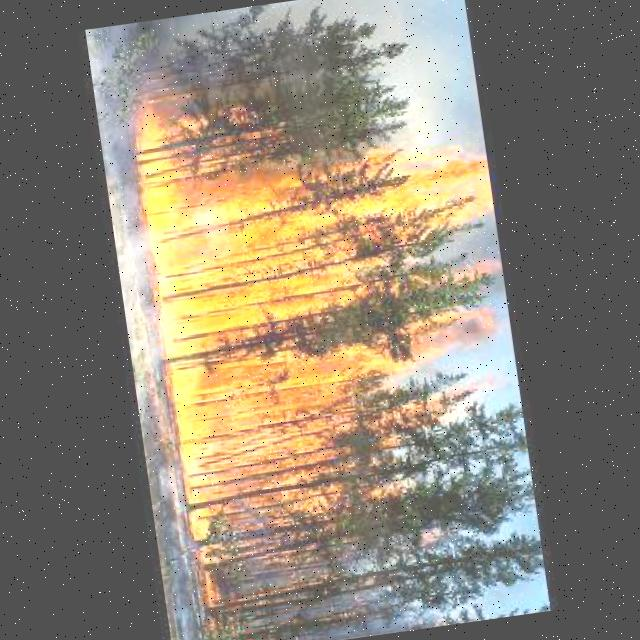fire: (143, 133, 517, 470)
